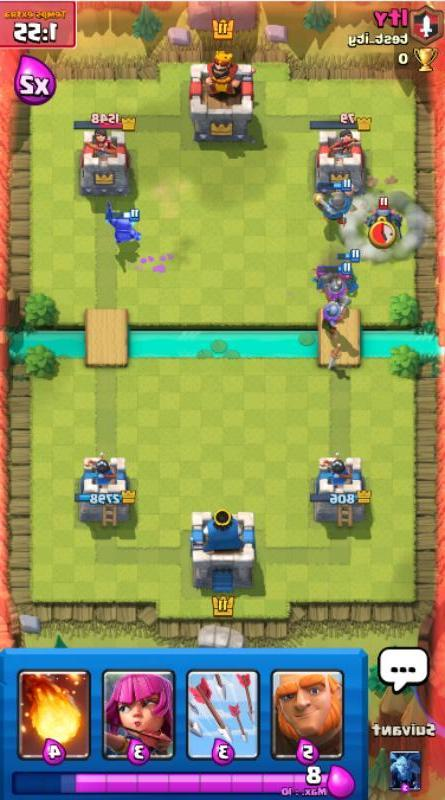enemy_mini_pekka: (359, 195, 410, 246)
player_knight: (314, 179, 361, 228)
player_mini_pekka: (98, 197, 146, 247)
player_musketeer: (318, 297, 355, 333)
player_three_musketeers: (309, 248, 365, 341)
